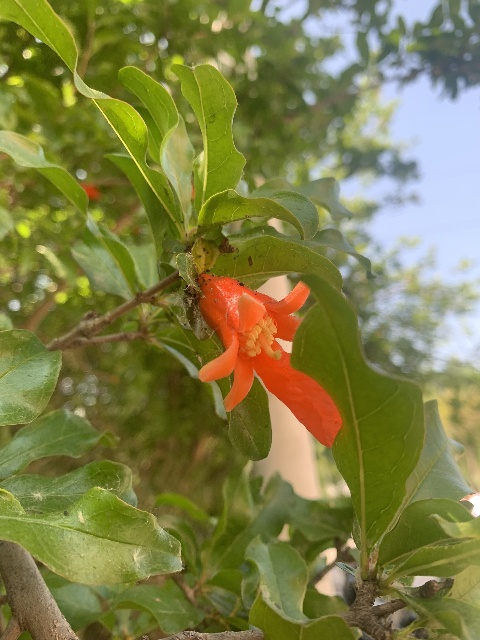flower: (196, 273, 343, 448)
